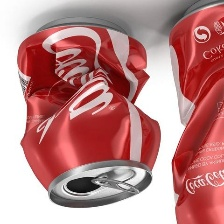can: (11, 11, 164, 210), (164, 0, 223, 224)
